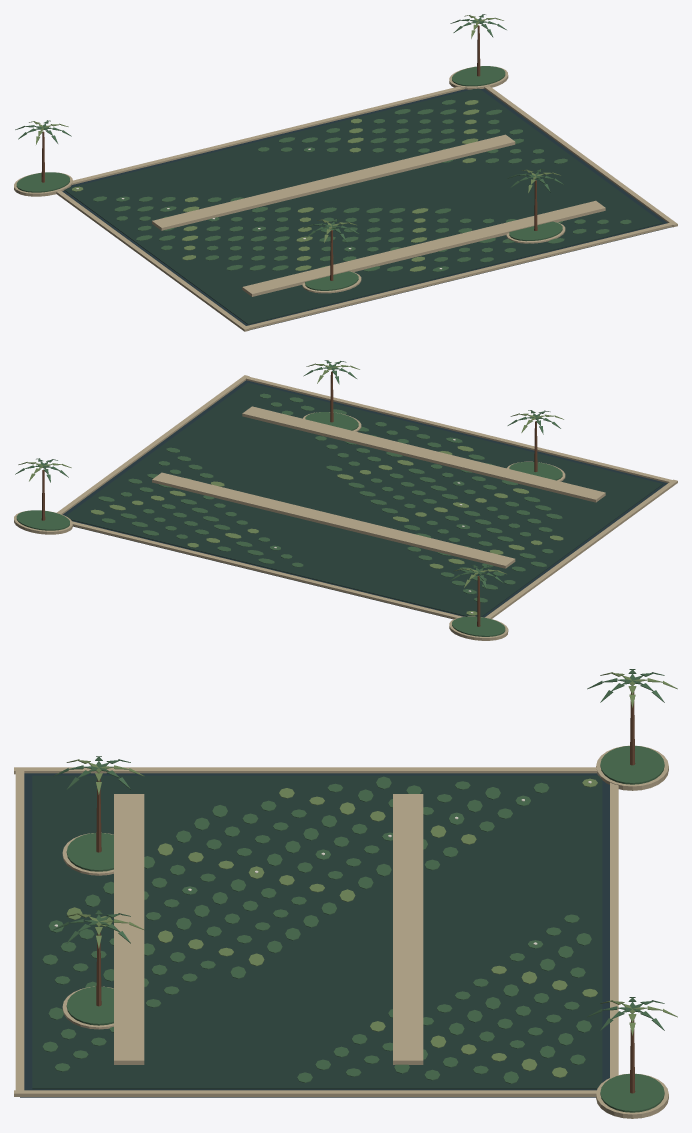
Rendered from KOL_T1_SONAR__Water_Gardens.fbx.
3 views of the same model, one above another, from view 1: azimuth 30°, elevation 25°; view 2: azimuth 150°, elevation 25°; view 3: azimuth 270°, elevation 25° (orthographic). The views are drawn at different scales.
Parts seen in each view (by area): view 1: KOL_T1_SONAR__Water_Gardens__KOL_T1_PondWater, KOL_T1_SONAR__Water_Gardens__KOL_T1_Stone, KOL_T1_SONAR__Water_Gardens__KOL_T1_Leaf, KOL_T1_SONAR__Water_Gardens__KOL_T1_Graphite, KOL_T1_SONAR__Water_Gardens__KOL_T1_LeafLight, KOL_T1_SONAR__Water_Gardens__KOL_T1_Louvre; view 2: KOL_T1_SONAR__Water_Gardens__KOL_T1_PondWater, KOL_T1_SONAR__Water_Gardens__KOL_T1_Stone, KOL_T1_SONAR__Water_Gardens__KOL_T1_Leaf, KOL_T1_SONAR__Water_Gardens__KOL_T1_Graphite, KOL_T1_SONAR__Water_Gardens__KOL_T1_LeafLight, KOL_T1_SONAR__Water_Gardens__KOL_T1_Louvre; view 3: KOL_T1_SONAR__Water_Gardens__KOL_T1_PondWater, KOL_T1_SONAR__Water_Gardens__KOL_T1_Stone, KOL_T1_SONAR__Water_Gardens__KOL_T1_Leaf, KOL_T1_SONAR__Water_Gardens__KOL_T1_Graphite, KOL_T1_SONAR__Water_Gardens__KOL_T1_LeafLight, KOL_T1_SONAR__Water_Gardens__KOL_T1_Louvre.
Boxes of the visible parts, <box> form: KOL_T1_SONAR__Water_Gardens__KOL_T1_PondWater: <box>64,88,662,324</box>; KOL_T1_SONAR__Water_Gardens__KOL_T1_Stone: <box>14,66,677,331</box>; KOL_T1_SONAR__Water_Gardens__KOL_T1_Leaf: <box>15,14,631,290</box>; KOL_T1_SONAR__Water_Gardens__KOL_T1_Graphite: <box>62,88,672,329</box>; KOL_T1_SONAR__Water_Gardens__KOL_T1_LeafLight: <box>29,15,560,271</box>; KOL_T1_SONAR__Water_Gardens__KOL_T1_Louvre: <box>41,25,537,280</box>; KOL_T1_SONAR__Water_Gardens__KOL_T1_PondWater: <box>66,382,662,616</box>; KOL_T1_SONAR__Water_Gardens__KOL_T1_Stone: <box>14,375,677,640</box>; KOL_T1_SONAR__Water_Gardens__KOL_T1_Leaf: <box>15,360,562,636</box>; KOL_T1_SONAR__Water_Gardens__KOL_T1_Graphite: <box>62,380,667,619</box>; KOL_T1_SONAR__Water_Gardens__KOL_T1_LeafLight: <box>18,363,563,615</box>; KOL_T1_SONAR__Water_Gardens__KOL_T1_Louvre: <box>41,371,537,626</box>; KOL_T1_SONAR__Water_Gardens__KOL_T1_PondWater: <box>32,775,602,1089</box>; KOL_T1_SONAR__Water_Gardens__KOL_T1_Stone: <box>14,745,668,1118</box>; KOL_T1_SONAR__Water_Gardens__KOL_T1_Leaf: <box>42,669,664,1112</box>; KOL_T1_SONAR__Water_Gardens__KOL_T1_Graphite: <box>20,773,609,1097</box>; KOL_T1_SONAR__Water_Gardens__KOL_T1_LeafLight: <box>66,672,677,1077</box>; KOL_T1_SONAR__Water_Gardens__KOL_T1_Louvre: <box>96,692,635,1093</box>.
Size of the model in its own units: 144 by 16.85 by 110.
